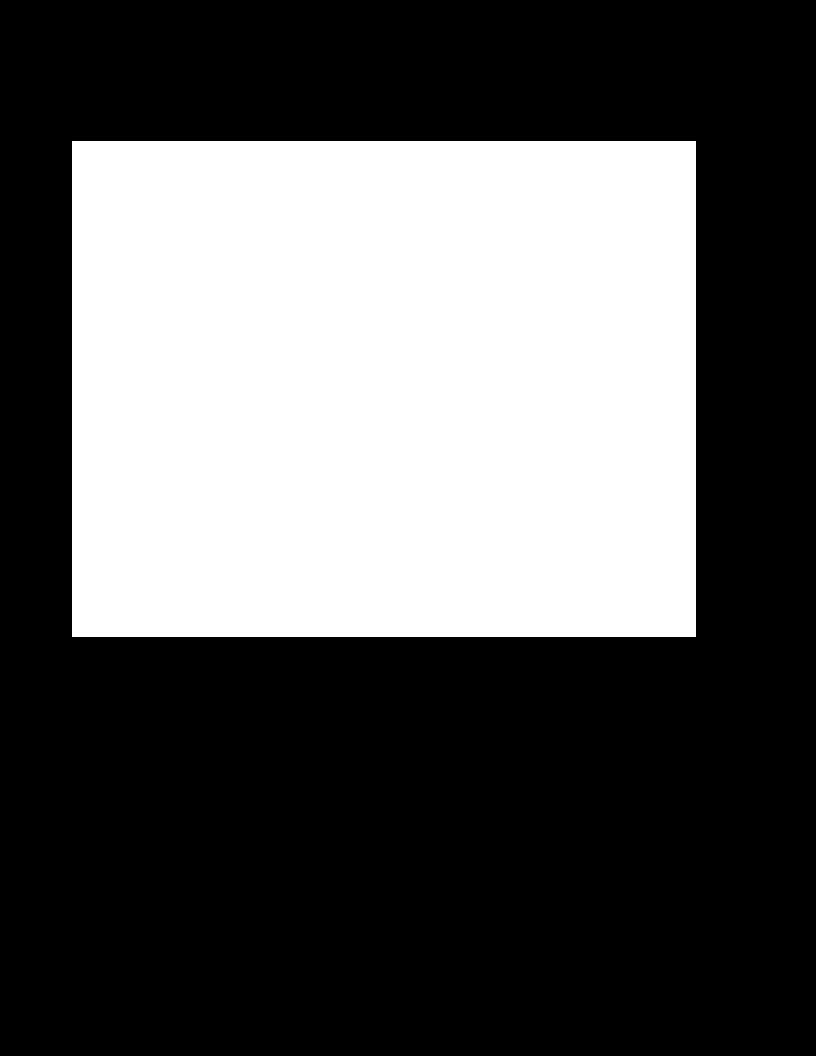table: (72, 141, 695, 636)
